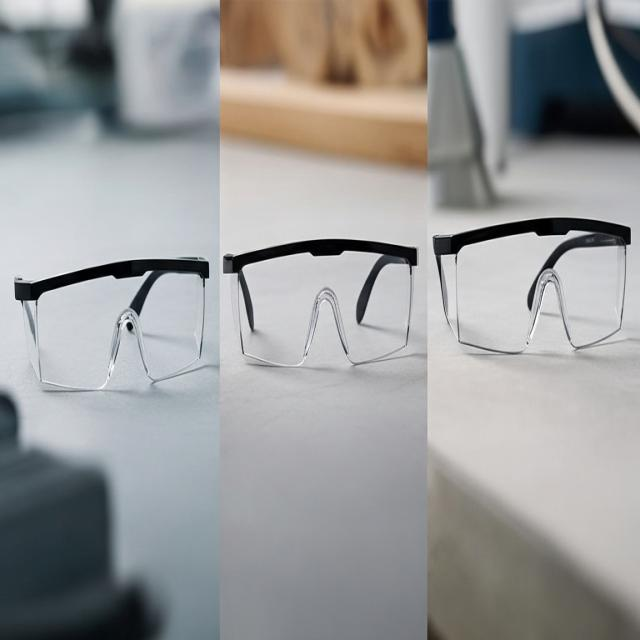oculos-epi: (433, 218, 630, 353), (15, 258, 209, 388), (223, 239, 418, 366)
